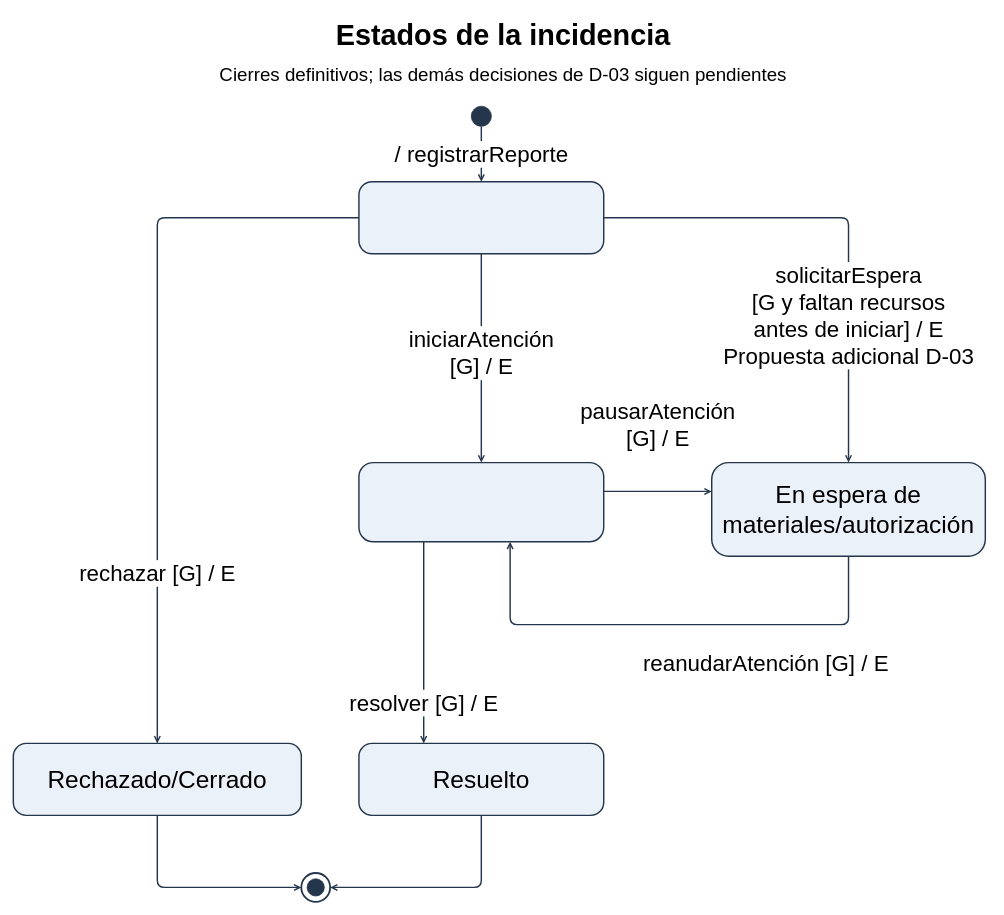
The diagram is 1004 pixels wide and 915 high, and some of its shapes have lost their labels. Each missing label, with the centre of its shape:
"En proceso" belongs at point (481, 502).
"Recibido" belongs at point (481, 217).
